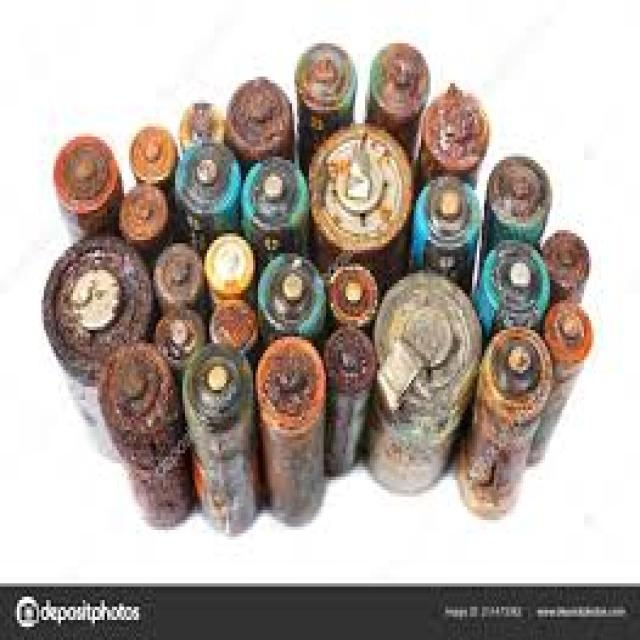battery: (44, 43, 550, 530)
